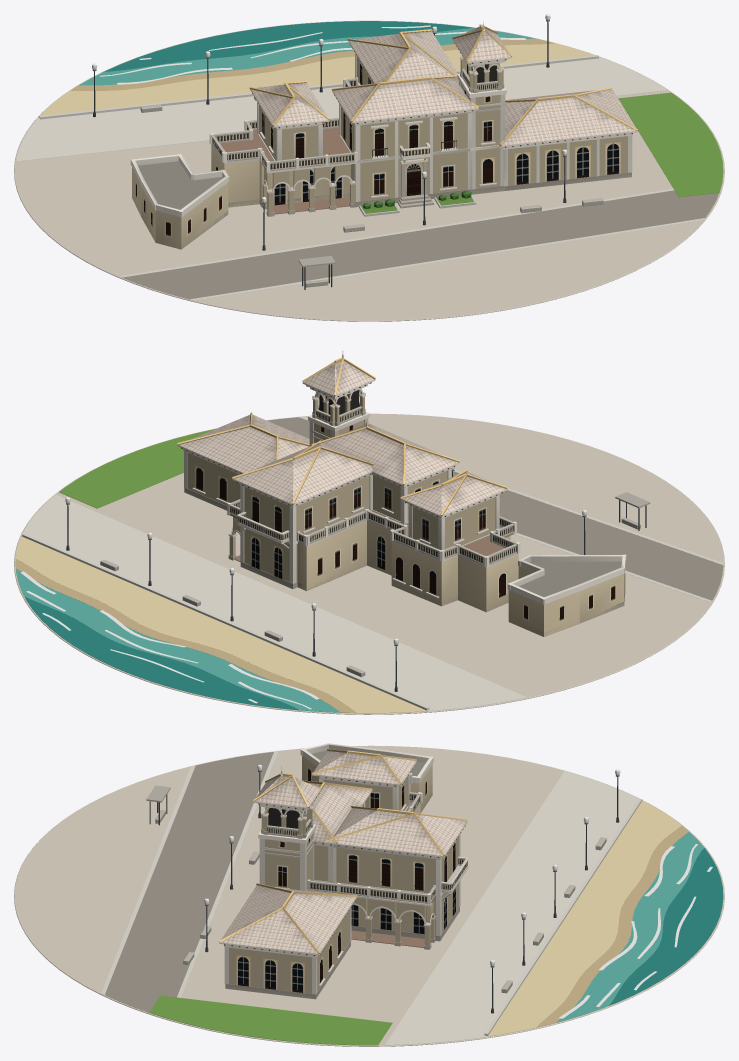
The model's file is estoril-pecas.glb.
3 views of the same model, one above another, from view 1: azimuth 30°, elevation 25°; view 2: azimuth 150°, elevation 25°; view 3: azimuth 270°, elevation 25° (orthographic).
Parts seen in each view (by area): view 1: Chao_Pisos, Chao_Base, Sobrado_Estoril, Anexos, Varandas_Terraco, Torre_Mirante, Orla_Calcadao; view 2: Chao_Pisos, Chao_Base, Sobrado_Estoril, Anexos, Varandas_Terraco, Torre_Mirante, Orla_Calcadao; view 3: Chao_Pisos, Chao_Base, Sobrado_Estoril, Anexos, Torre_Mirante, Varandas_Terraco, Orla_Calcadao.
Part boxes in pixels (bbox=[...]): Chao_Pisos: bbox=[16, 21, 723, 300]; Chao_Base: bbox=[14, 20, 724, 321]; Sobrado_Estoril: bbox=[249, 29, 603, 232]; Anexos: bbox=[130, 87, 637, 249]; Varandas_Terraco: bbox=[209, 77, 358, 216]; Torre_Mirante: bbox=[452, 21, 511, 194]; Orla_Calcadao: bbox=[92, 14, 567, 289]; Chao_Pisos: bbox=[15, 416, 723, 713]; Chao_Base: bbox=[14, 413, 724, 714]; Sobrado_Estoril: bbox=[232, 422, 507, 588]; Anexos: bbox=[177, 412, 626, 636]; Varandas_Terraco: bbox=[227, 499, 520, 612]; Torre_Mirante: bbox=[302, 351, 375, 446]; Orla_Calcadao: bbox=[20, 466, 650, 709]; Chao_Pisos: bbox=[101, 751, 723, 1045]; Chao_Base: bbox=[14, 745, 724, 1046]; Sobrado_Estoril: bbox=[183, 749, 468, 964]; Anexos: bbox=[219, 743, 433, 999]; Torre_Mirante: bbox=[253, 766, 321, 890]; Varandas_Terraco: bbox=[307, 772, 436, 949]; Orla_Calcadao: bbox=[146, 764, 712, 1018].
Size of the model in its own units: 66.8 by 17.15 by 66.8.
Materials: 25 (2 with a texture image).
